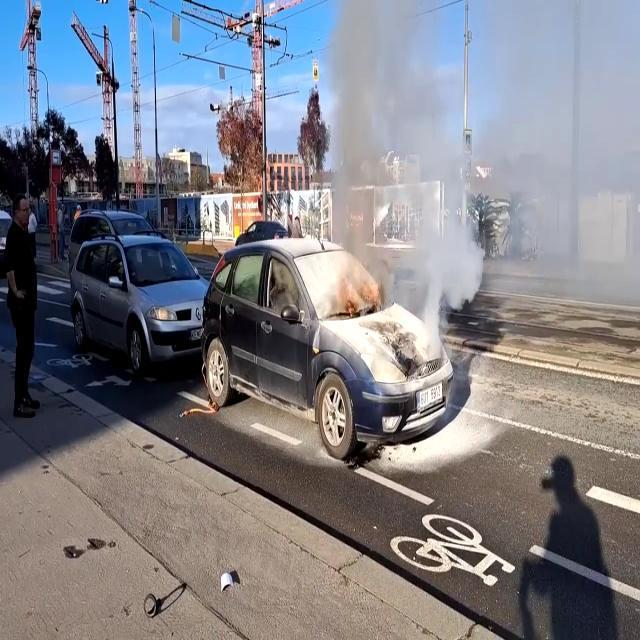Smoke: (315, 19, 640, 316)
